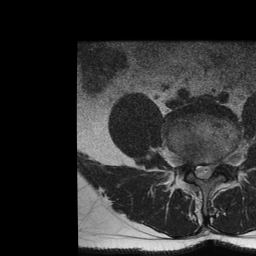CCS_severe_stenosis: (201, 155, 208, 187)
LFS_stenosis: (216, 149, 224, 173)
LLS_normal: (208, 154, 216, 182)
RFS_severe_stenosis: (184, 149, 193, 173)
RLS_normal: (193, 155, 201, 183)
